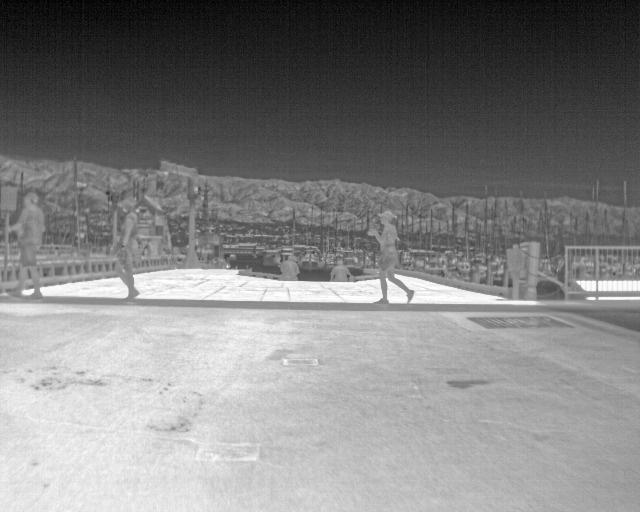empty: (364, 206, 418, 307), (1, 190, 45, 298), (113, 196, 142, 300), (273, 253, 301, 280), (326, 258, 355, 282)
